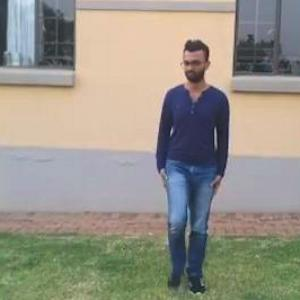follow: (152, 23, 237, 294)
